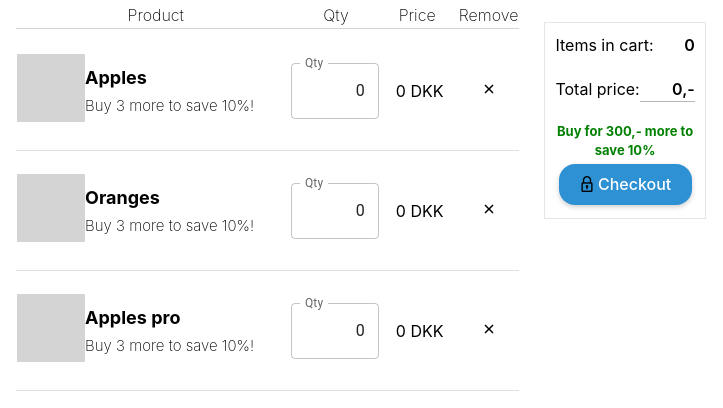
Test: Cart : With Items › Should show price of 2 apples in checkout box when quantity of apples has been changed to 2
Type "2" into the field labelled "Qty" at (335, 90), box [291, 62, 379, 118]
Then press Enter
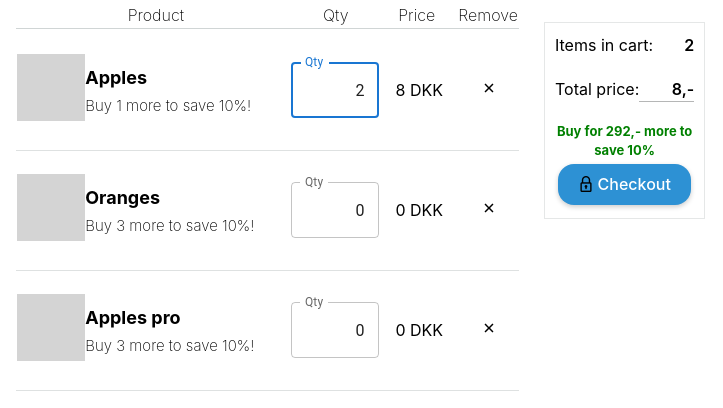
Result: the text with test id "totalPriceAfter" reads "8,-" at [672, 79, 694, 99]
